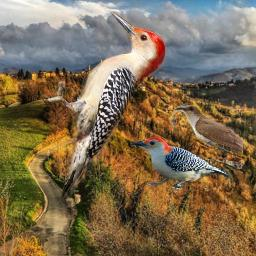Cuckoo: (173, 105, 243, 156)
Woodpecker: (40, 11, 169, 204), (130, 137, 229, 191)
